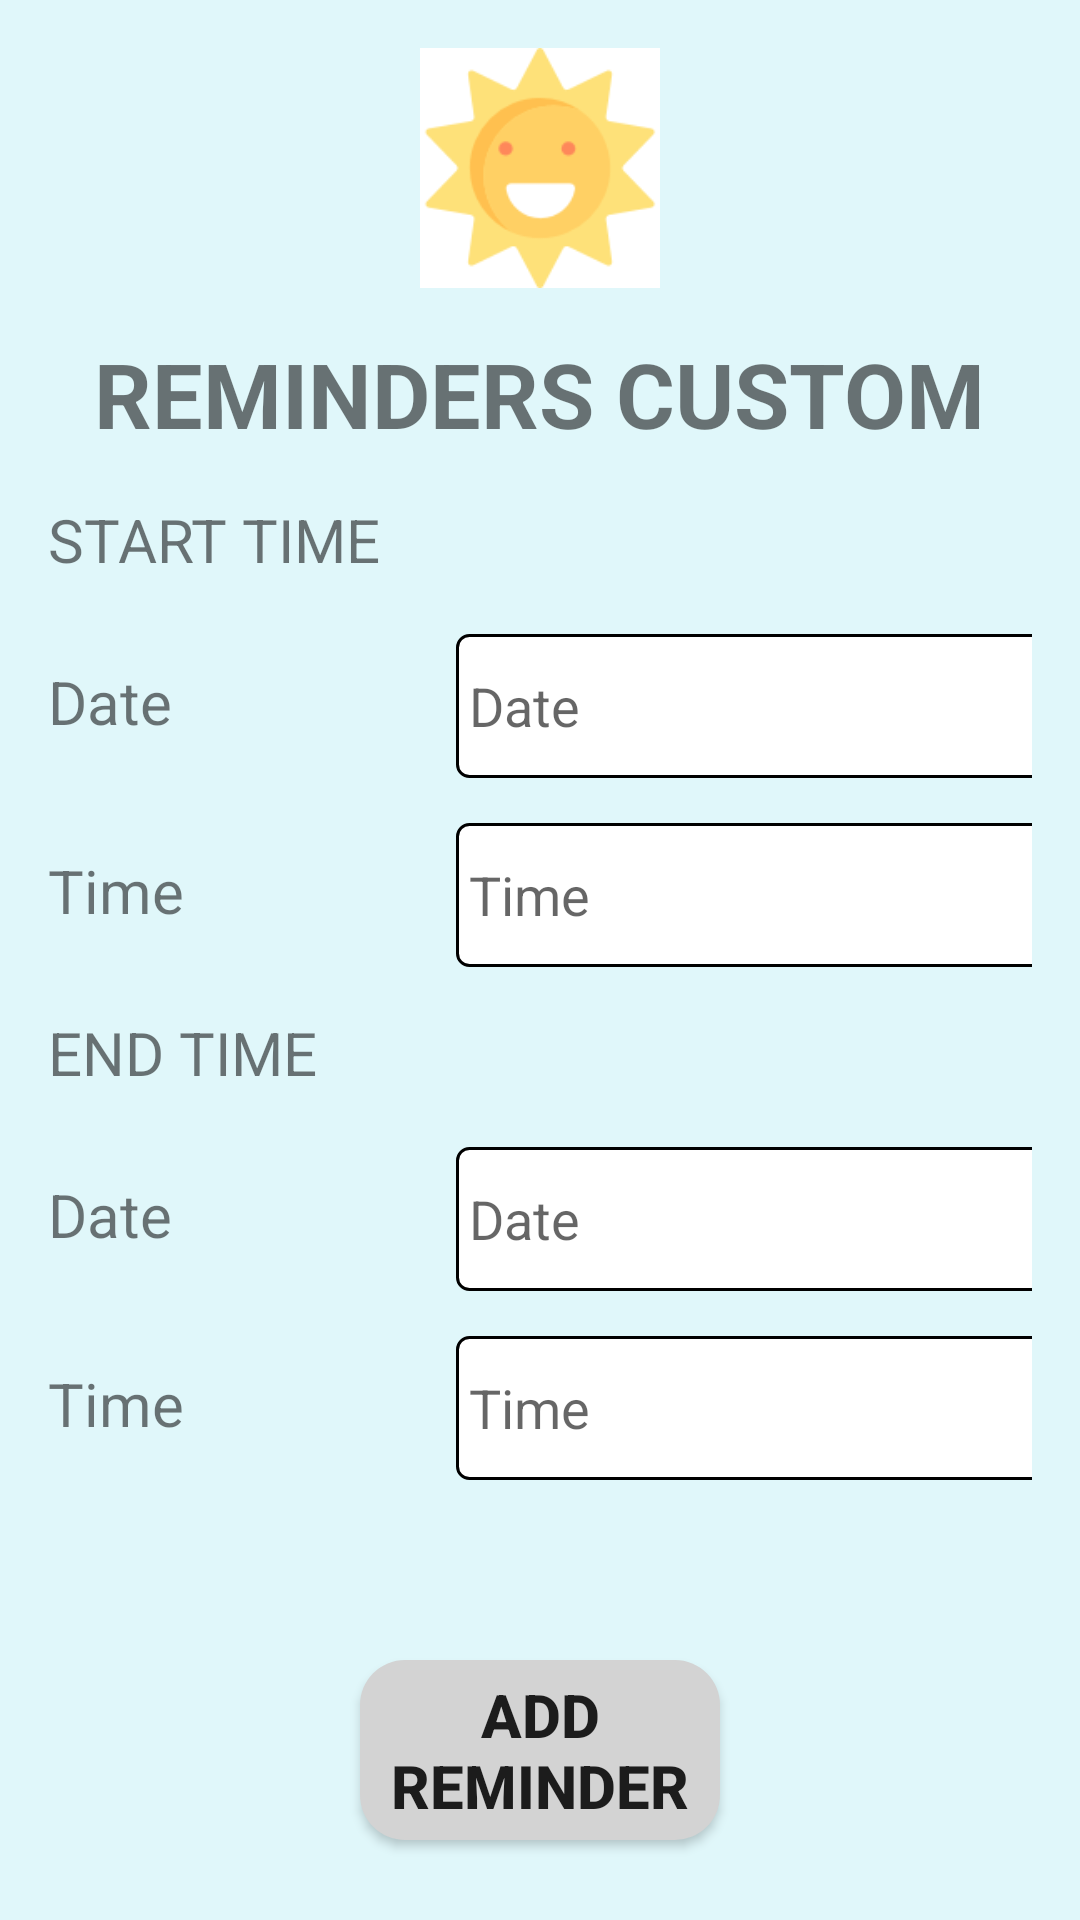

Where to tap for icons on this 1080w x 1920h app screen, as (x=x, y=y):
sun: (x=540, y=168)
